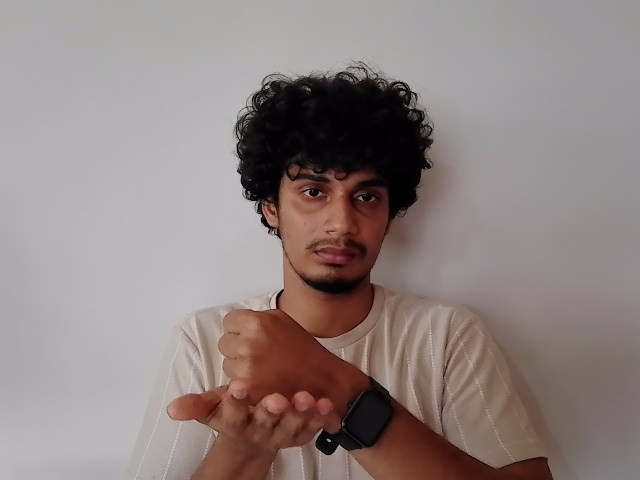help: (164, 305, 343, 460)
